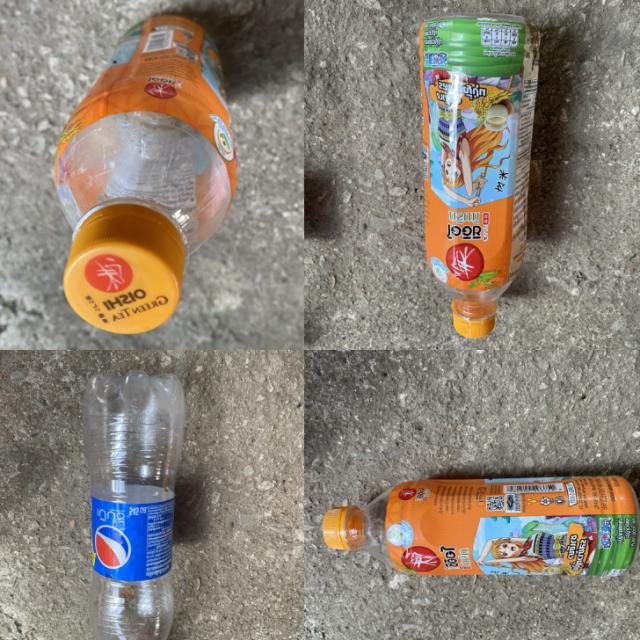plastik: (54, 15, 237, 333), (420, 15, 540, 338), (322, 476, 640, 577), (83, 372, 185, 640)
